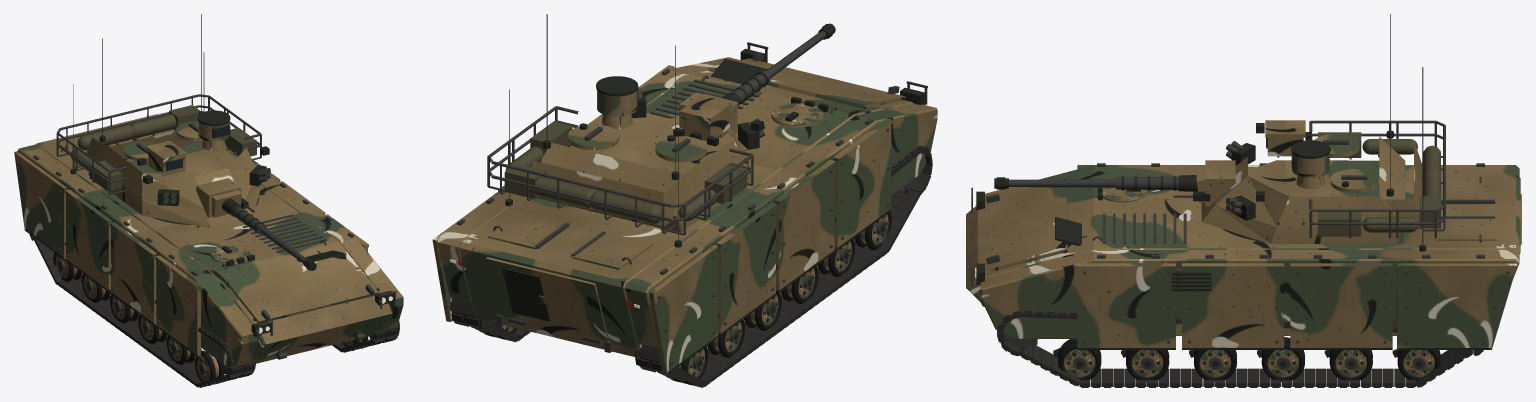
The picture shows the model from 3 angles, left to right: view 1: azimuth 30°, elevation 25°; view 2: azimuth 150°, elevation 25°; view 3: azimuth 270°, elevation 25°; orthographic projection. The views are drawn at different scales.
Visible parts, largest first — view 1: hull_paint, turret_paint, hull_track, turret_canvas, hull_steel, turret_steel, hull_rubber, hull_dark, turret_dark, gun_paint, gun_steel, gun_dark; view 2: hull_paint, turret_paint, hull_track, turret_canvas, turret_steel, hull_dark, hull_steel, hull_rubber, turret_dark, gun_steel, gun_paint, gun_dark; view 3: hull_paint, turret_paint, hull_track, turret_canvas, hull_steel, hull_dark, turret_steel, hull_rubber, turret_dark, gun_steel, gun_paint, gun_dark.
Part boxes in pixels (box(x1,y1,x2,y2)): hull_paint: box(14, 112, 403, 380); turret_paint: box(86, 121, 261, 227); hull_track: box(29, 234, 399, 387); turret_canvas: box(70, 105, 256, 191); hull_steel: box(16, 52, 396, 374); turret_steel: box(56, 14, 270, 203); hull_rubber: box(53, 252, 368, 385); hull_dark: box(25, 168, 393, 378); turret_dark: box(99, 110, 269, 205); gun_paint: box(196, 178, 241, 217); gun_steel: box(231, 205, 306, 263); gun_dark: box(222, 198, 316, 270); hull_paint: box(432, 57, 937, 377); turret_paint: box(531, 90, 751, 232); hull_track: box(449, 145, 932, 387); turret_canvas: box(504, 121, 746, 223); turret_steel: box(487, 14, 765, 235); hull_dark: box(451, 48, 924, 375); hull_steel: box(457, 42, 927, 369); hull_rubber: box(486, 211, 891, 384); turret_dark: box(543, 76, 763, 180); gun_steel: box(732, 31, 826, 103); gun_paint: box(679, 92, 738, 137); gun_dark: box(722, 23, 835, 105); hull_paint: box(966, 165, 1521, 377); turret_paint: box(1201, 120, 1422, 244); hull_track: box(997, 310, 1483, 387); turret_canvas: box(1318, 132, 1440, 236); hull_steel: box(971, 67, 1509, 369); hull_dark: box(976, 187, 1490, 373); turret_steel: box(1226, 14, 1445, 238); hull_rubber: box(1058, 337, 1440, 381); turret_dark: box(1231, 123, 1393, 220); gun_steel: box(1009, 176, 1192, 197); gun_paint: box(1196, 160, 1235, 206); gun_dark: box(994, 175, 1210, 201).
Size of the model in its own units: 3.32 by 4.52 by 7.69.
9 materials, 1 textured.
